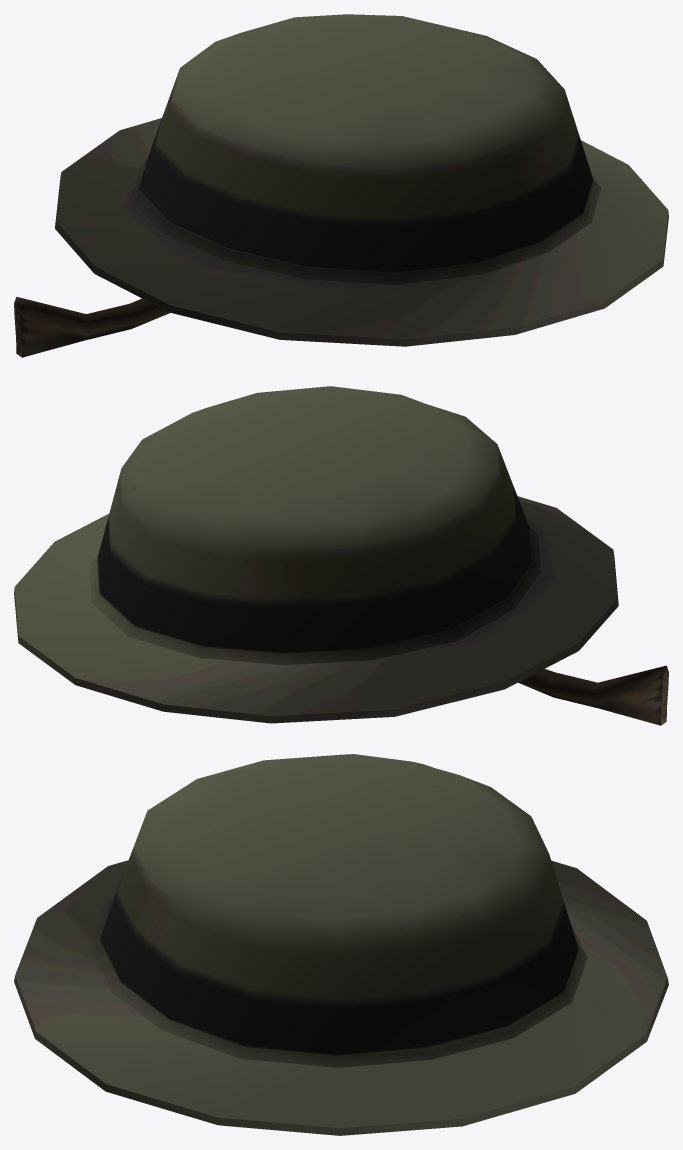
The model's file is harry0.ico.obj.
3 renders of one model, top to bottom at view 1: azimuth 30°, elevation 25°; view 2: azimuth 150°, elevation 25°; view 3: azimuth 270°, elevation 25°, orthographic. The views are drawn at different scales.
Bounding box in the file's own units: 3.8 × 1.21 × 3.29.
